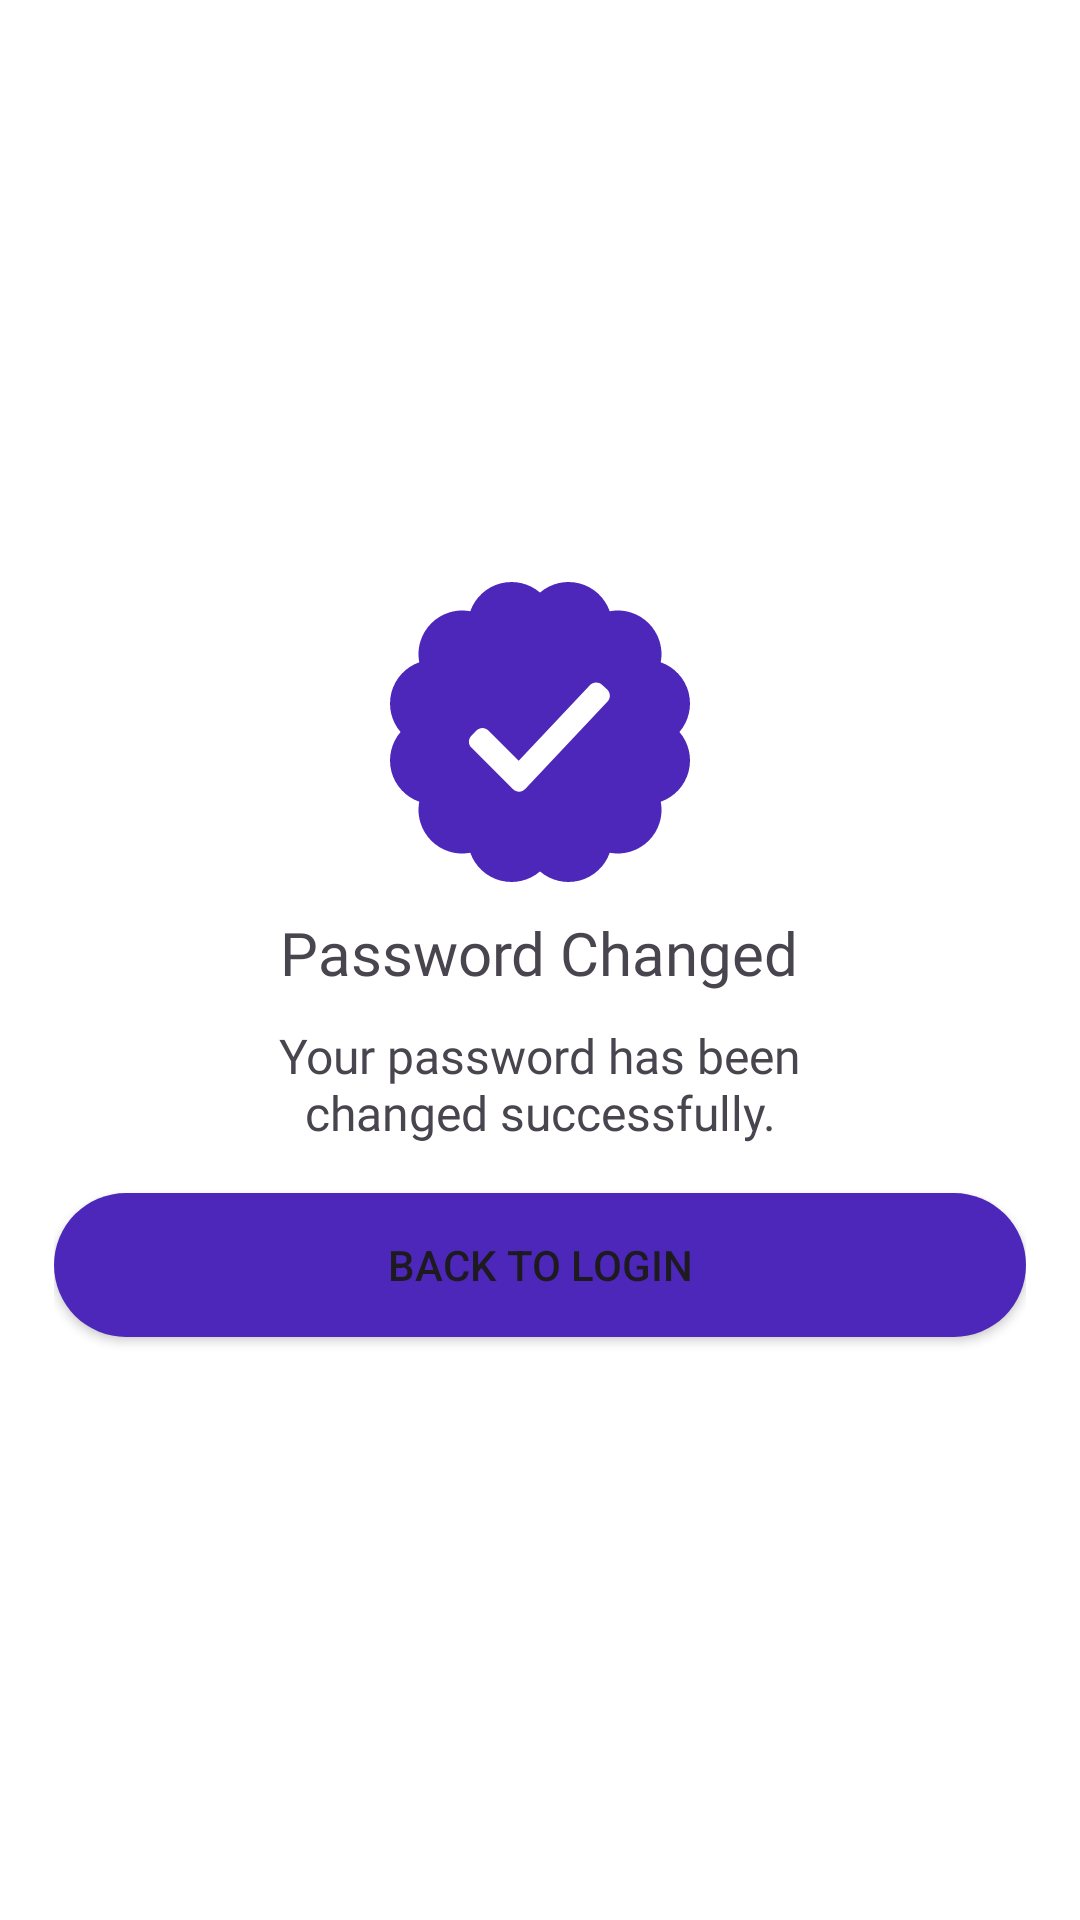

Icons on this 1080×1920 Android screen, each with its box as (x1=x1, y1=y1, x2=x2, y2=y2):
Success Mark: (x1=390, y1=582, x2=690, y2=882)
